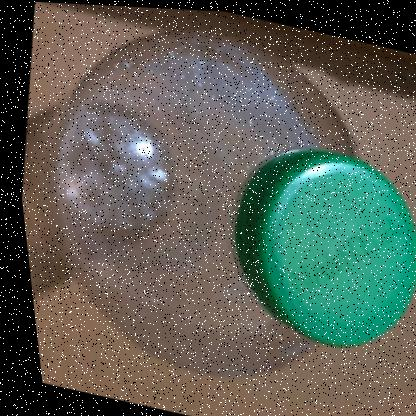bottle cap: (112, 29, 416, 416)
